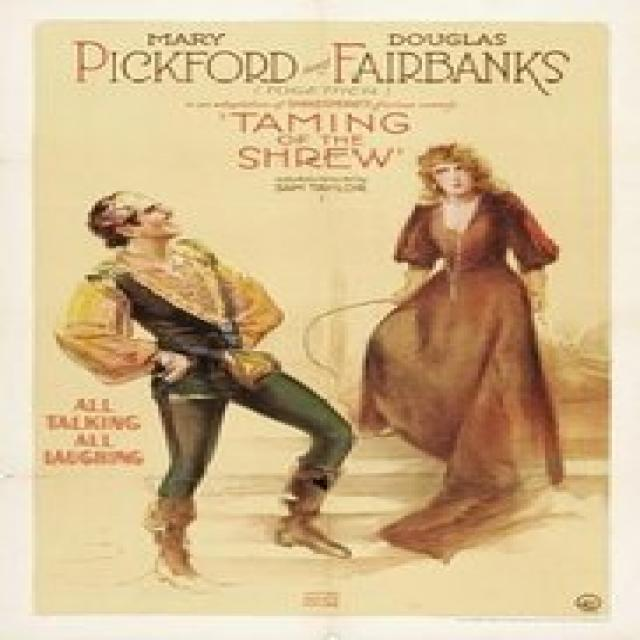movie-judul: (205, 107, 420, 171)
picture: (55, 187, 364, 567), (368, 147, 586, 549)
